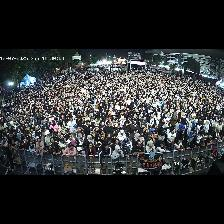person: (99, 144, 112, 169), (167, 128, 176, 149), (63, 143, 76, 157), (86, 143, 96, 161), (132, 140, 144, 155), (49, 143, 62, 156), (112, 146, 124, 159), (159, 124, 168, 141), (94, 135, 103, 151), (155, 140, 168, 151), (146, 140, 156, 154), (145, 132, 155, 146), (174, 140, 185, 152), (121, 143, 130, 157), (121, 122, 130, 136), (132, 134, 142, 146), (189, 126, 196, 143), (130, 120, 139, 133), (59, 138, 67, 152), (55, 131, 66, 141), (104, 133, 113, 145), (36, 137, 45, 148), (112, 139, 121, 150), (77, 133, 84, 147), (118, 130, 125, 144), (125, 138, 132, 151), (29, 142, 36, 155), (197, 130, 203, 145), (171, 114, 178, 126), (19, 141, 28, 150), (50, 121, 58, 131), (103, 122, 111, 132), (189, 137, 197, 147), (45, 133, 51, 146), (130, 130, 137, 141), (180, 120, 187, 131), (36, 146, 43, 156), (182, 138, 189, 148), (77, 147, 85, 155), (67, 134, 74, 143), (2, 138, 8, 148), (187, 124, 192, 136), (111, 129, 117, 139), (28, 133, 36, 140), (87, 135, 94, 143), (120, 116, 125, 127), (10, 140, 15, 150), (15, 142, 20, 152), (212, 136, 218, 144), (28, 137, 35, 143), (218, 136, 222, 142)
